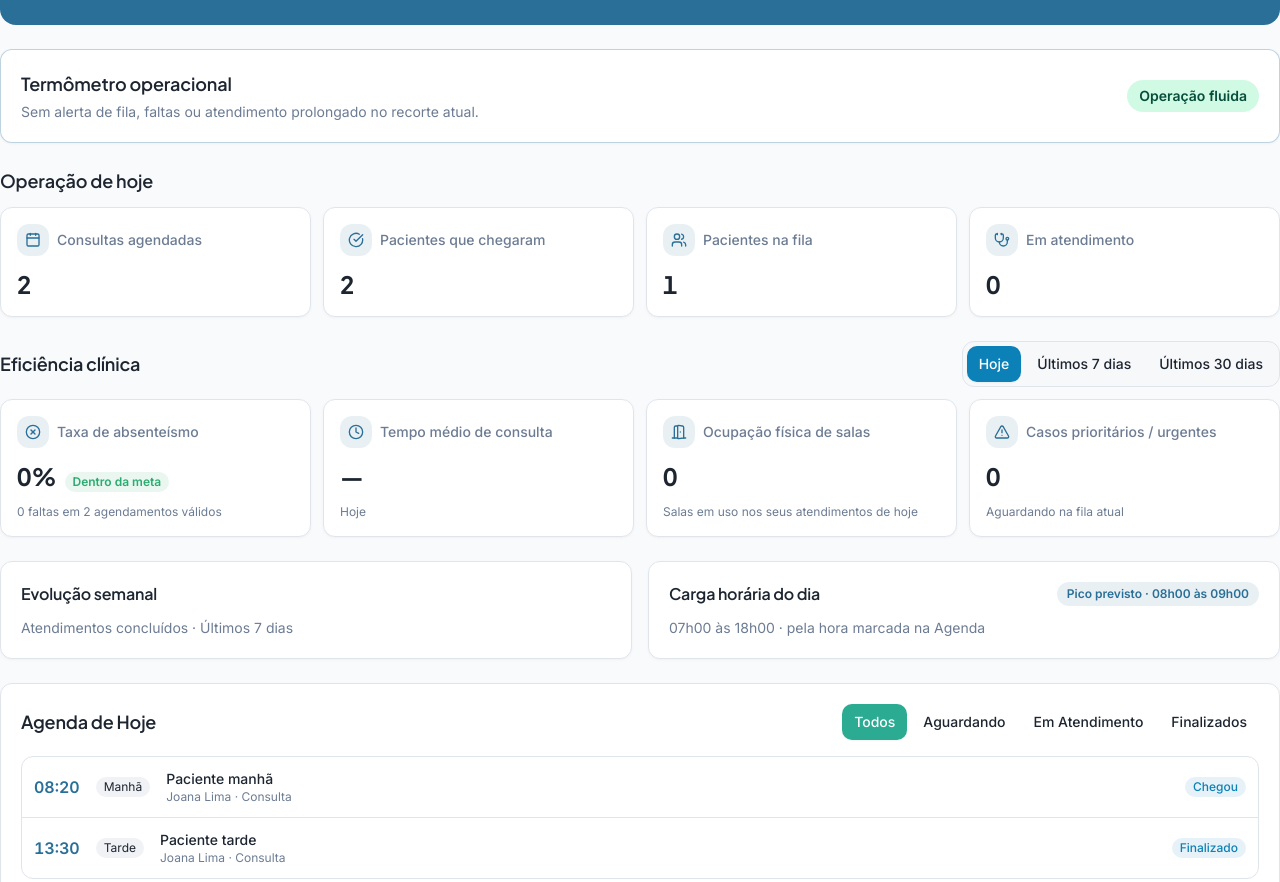
Scenario: aplica o escopo profissional, restringe atalhos e filtra agenda e métricas de forma independente
(page scrolled)
Check: the text "Paciente manhã" is shown, box [166, 770, 273, 787]
Check: the text "0 faltas em 2 agendamentos válidos" is shown, box [17, 504, 222, 519]
Click the button "Finalizados" at (1209, 722), box [1159, 704, 1259, 740]
(page scrolled)
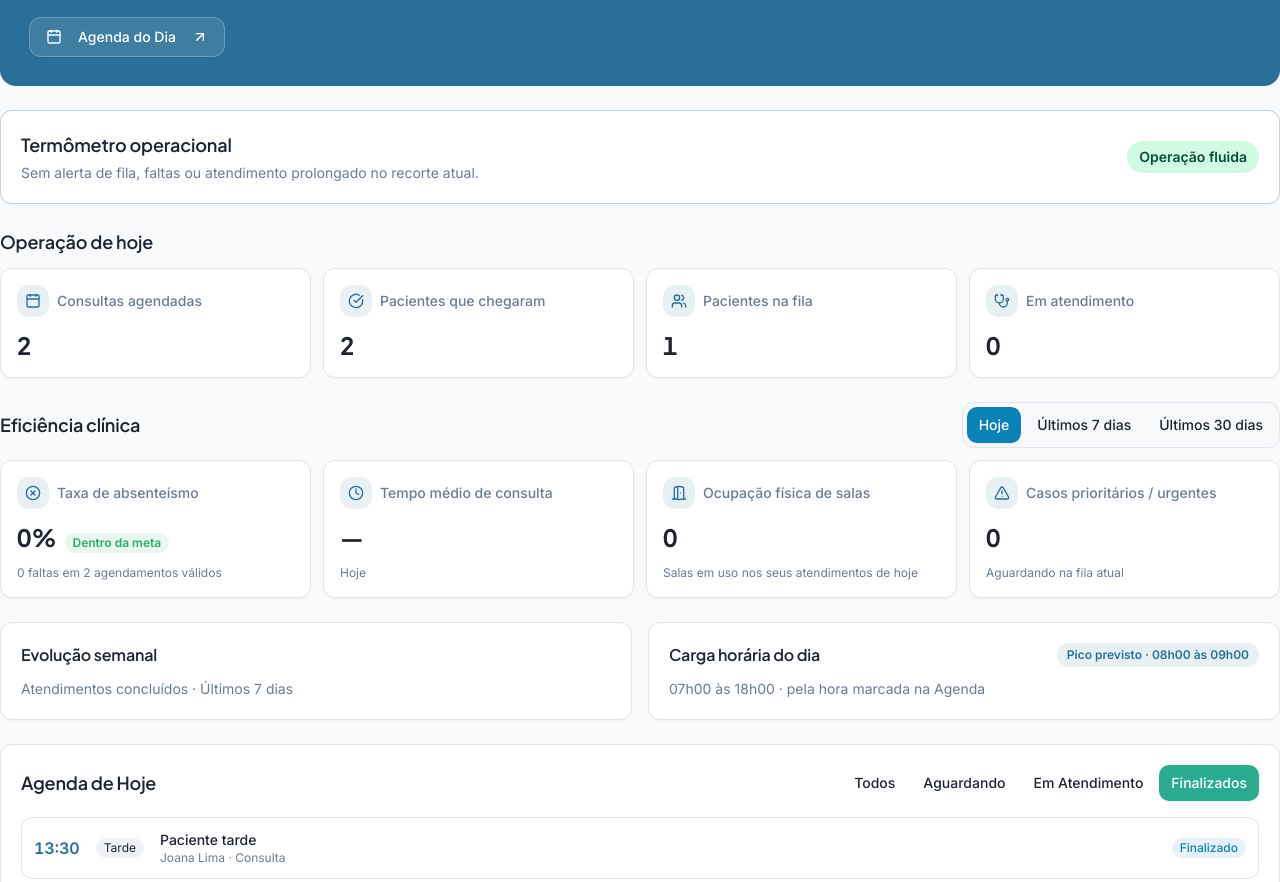
Check: the text "Paciente tarde" is shown, box [160, 831, 256, 848]
Check: the text "Paciente manhã" is gone
Click the button "Últimos 7 dias" at (1084, 425), box [1025, 407, 1143, 443]
(page scrolled)
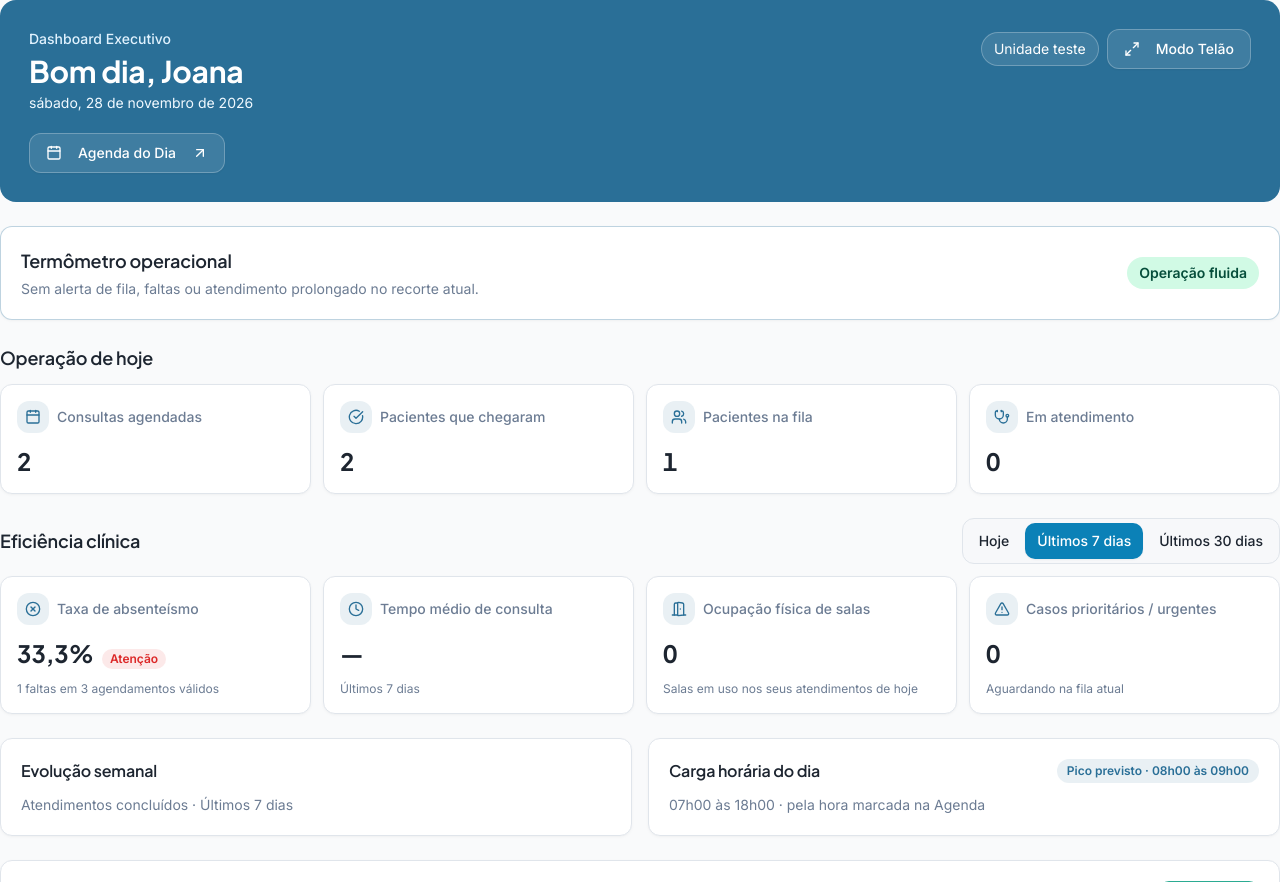
Check: the text "1 faltas em 3 agendamentos válidos" is shown, box [17, 681, 219, 696]
Click the button "Modo Telão" at (1179, 49), box [1107, 29, 1251, 69]
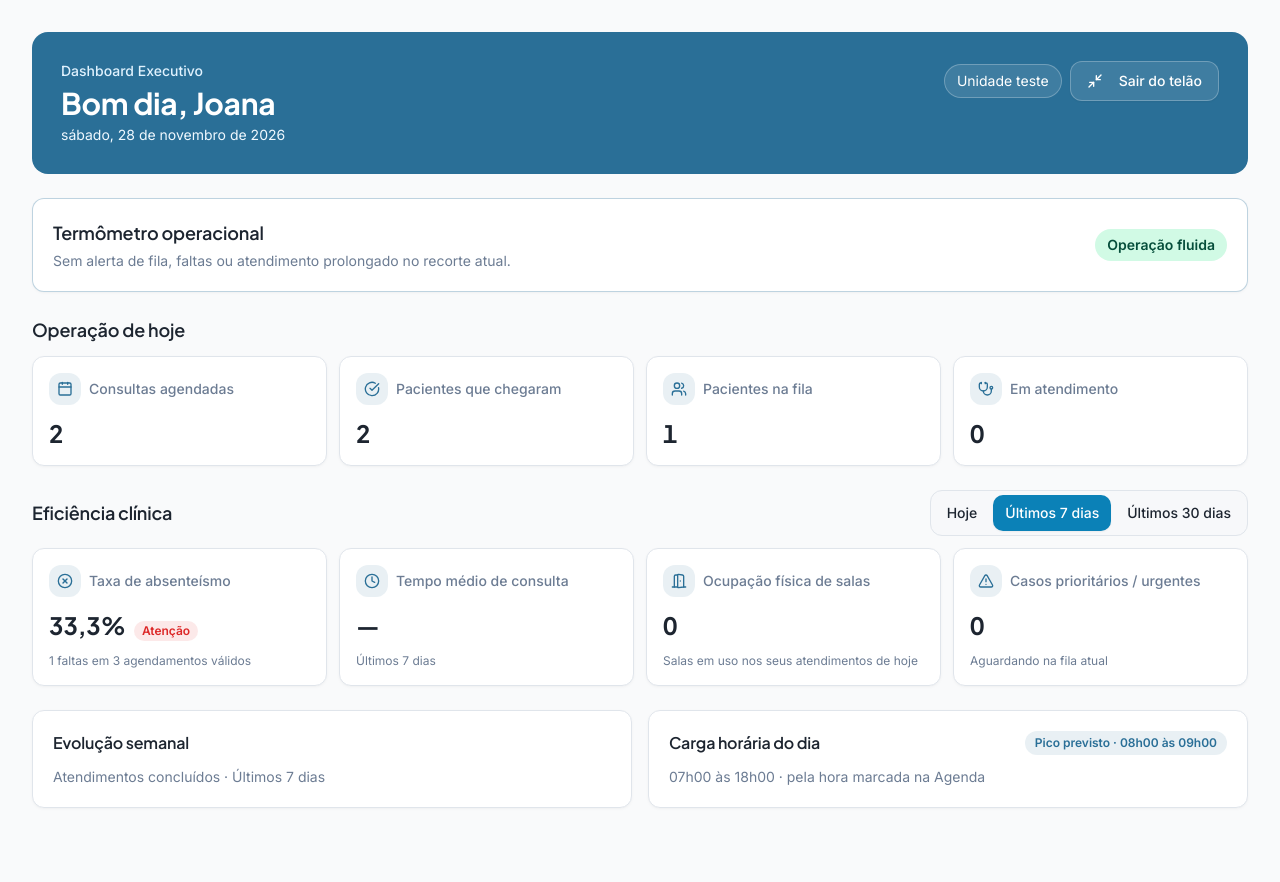
Check: the heading "Termômetro operacional" is shown, box [53, 221, 264, 244]
Press Escape
(page scrolled)
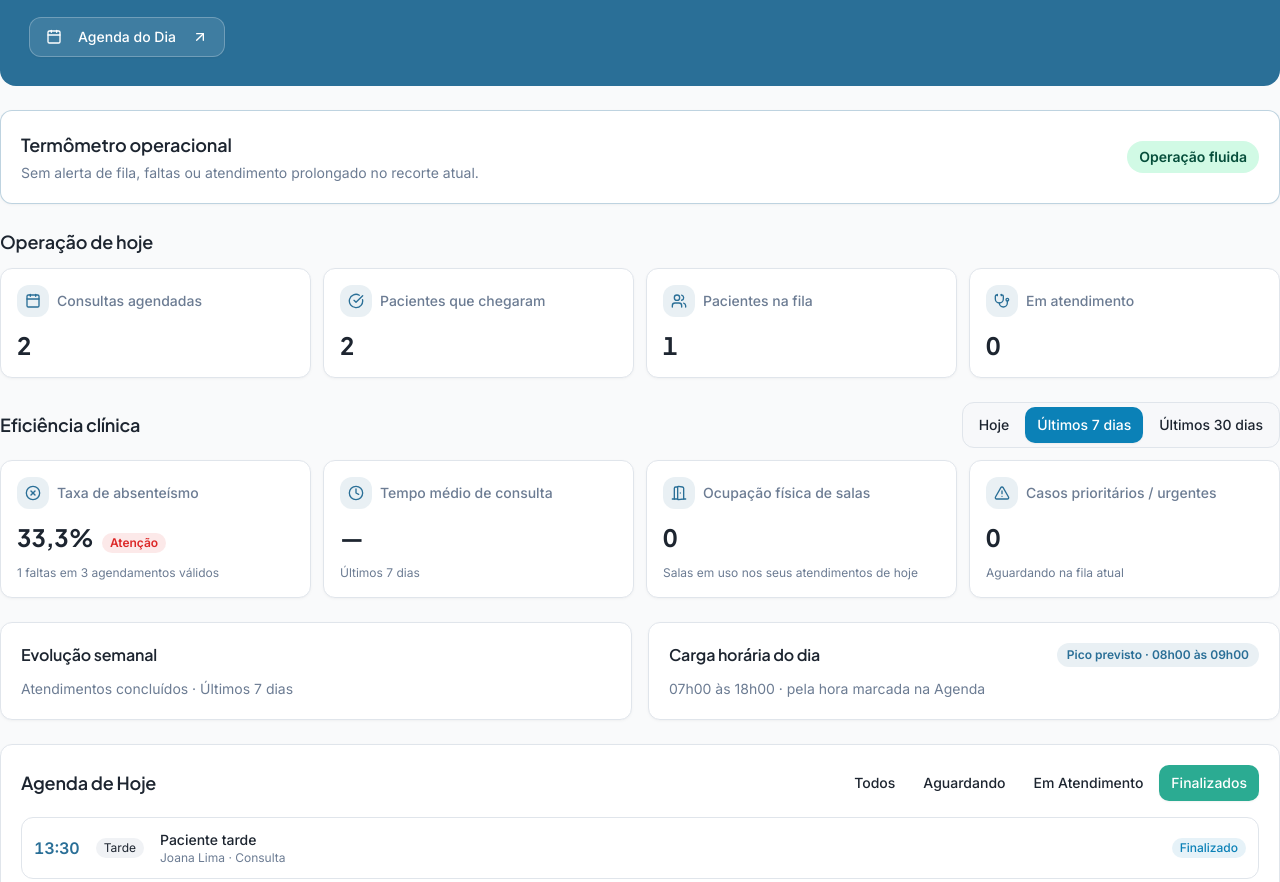
Check: the text "Paciente tarde" is shown, box [160, 831, 256, 848]
